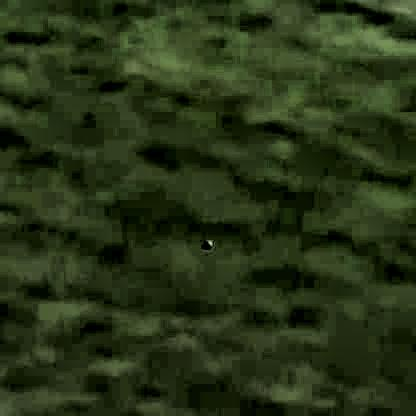golfball: (203, 237, 210, 244)
